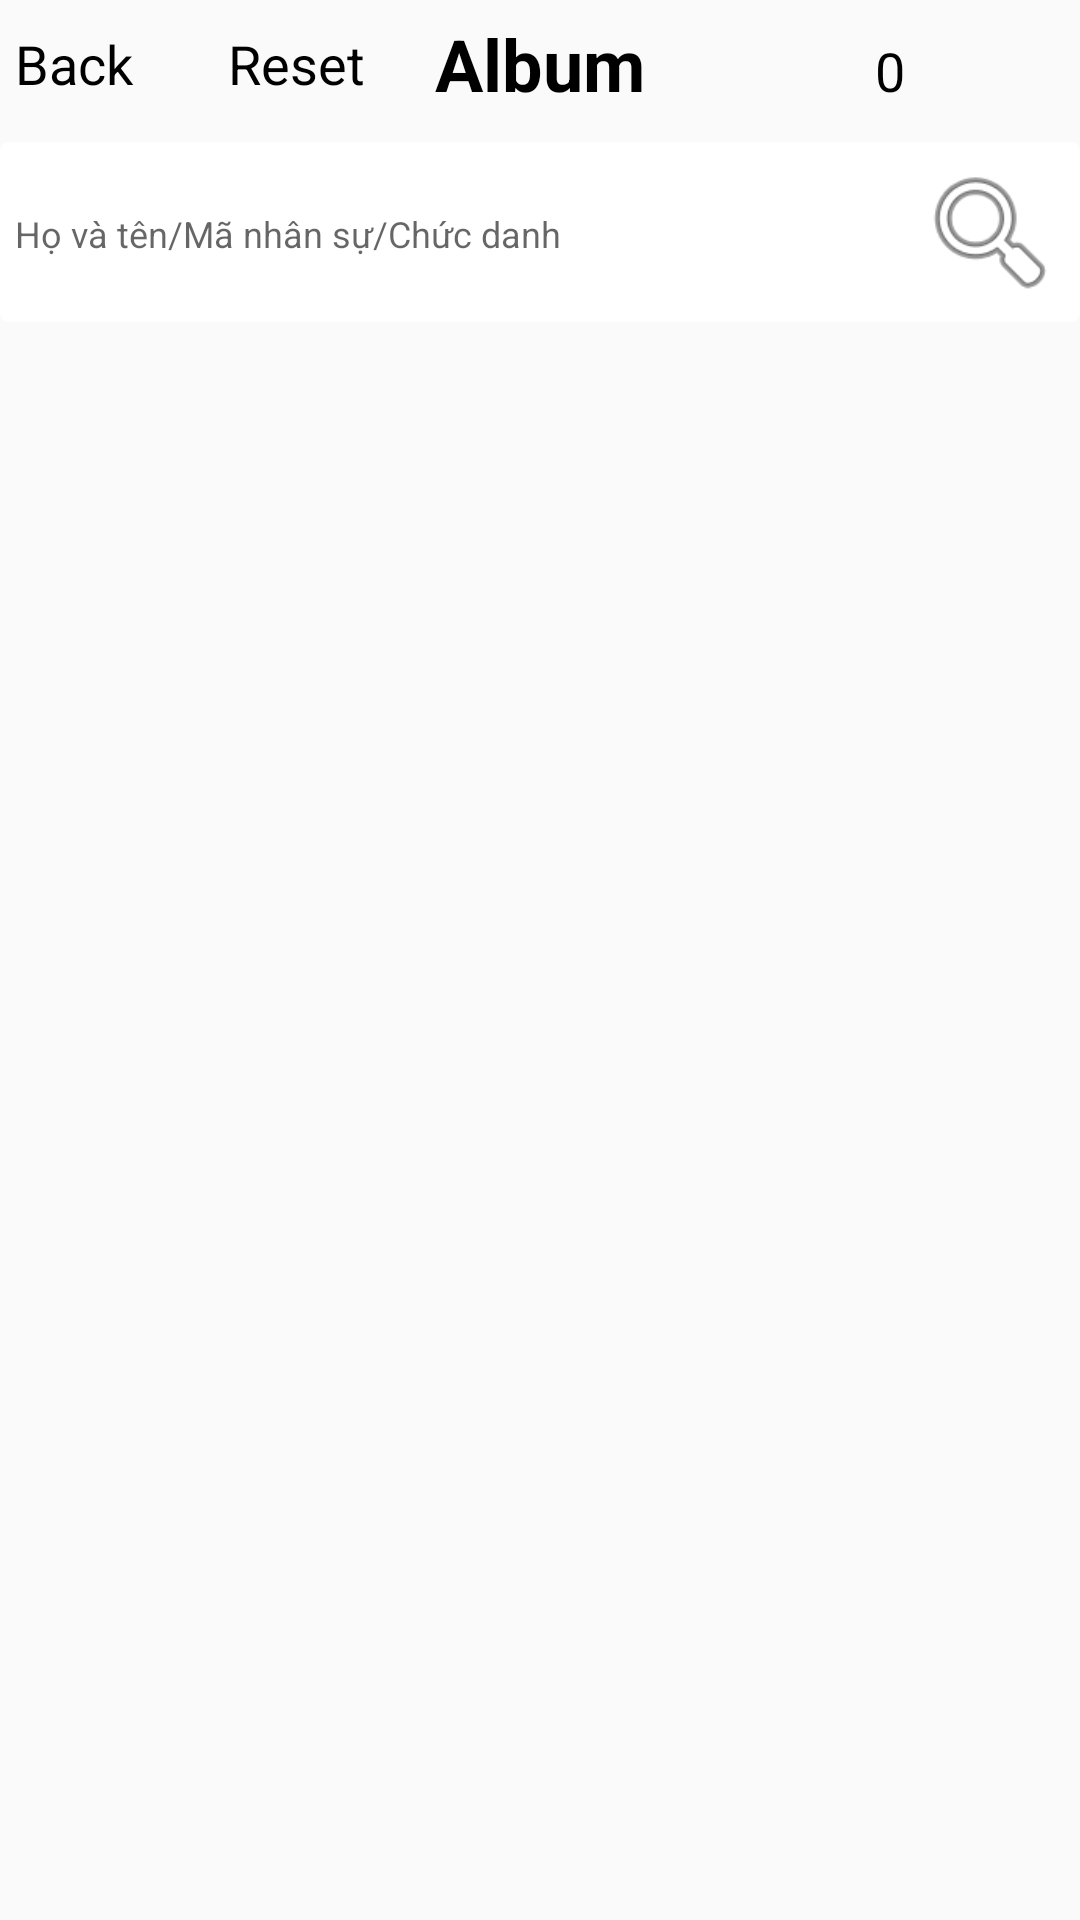

Locate icon controls on the screen. Image size 1080x1920, boxes as [x1=x1, y1=y1, x2=x2, y2=y2].
search: [x1=934, y1=177, x2=1046, y2=289]
